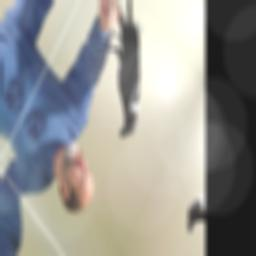Crow: (80, 0, 176, 149)
